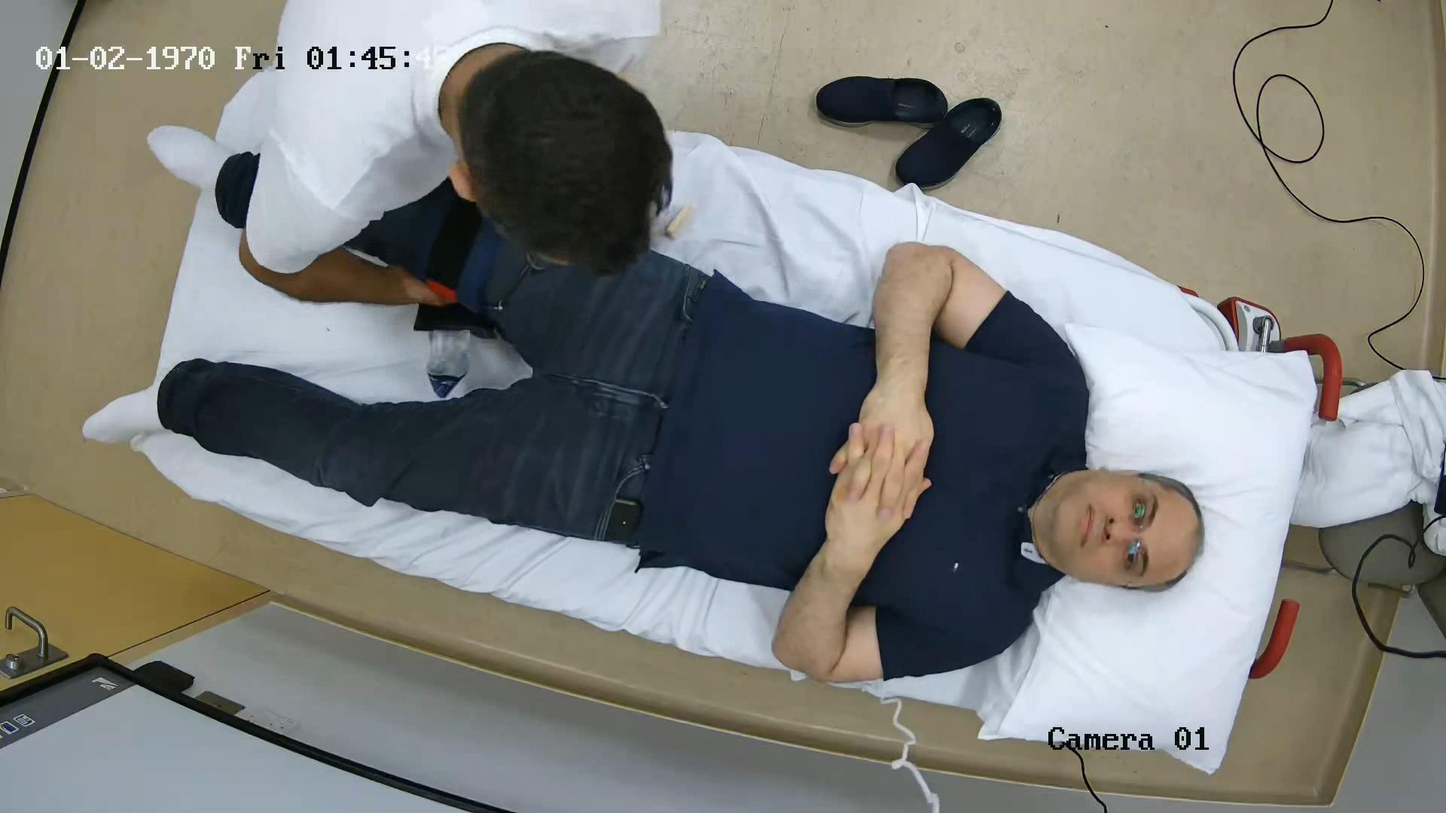bed: (134, 61, 1341, 772)
patient: (157, 180, 1202, 681)
prepstick: (651, 204, 691, 242)
tourniquet: (423, 194, 501, 304)
